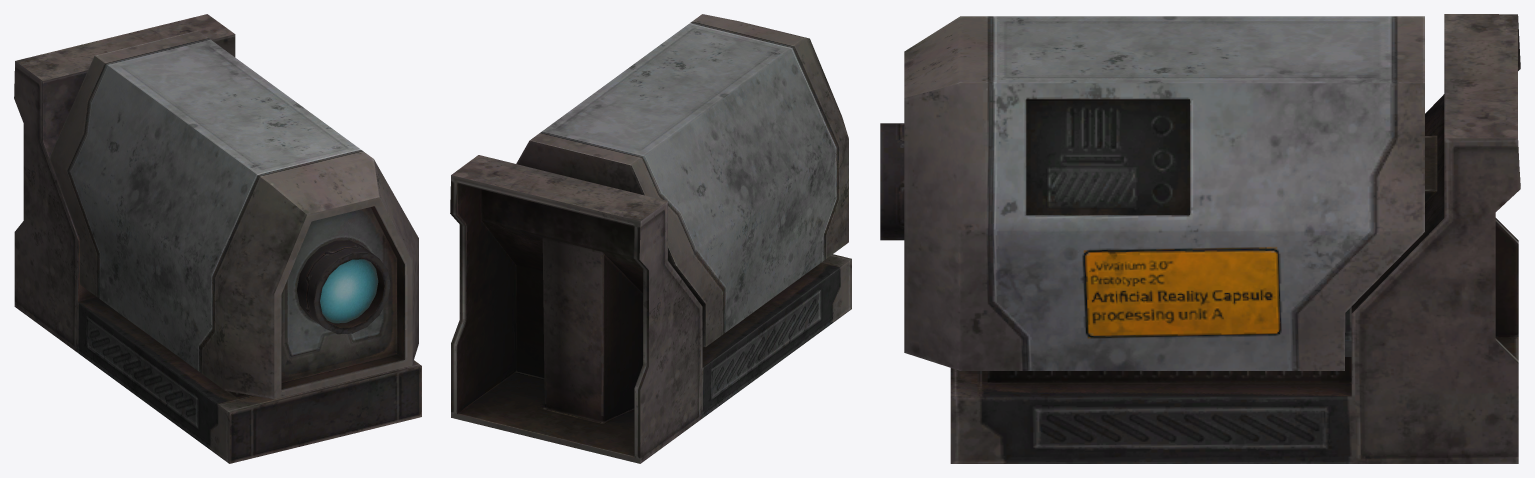
Rendered from chun_vivariumslice03.dae.
The picture shows the model from 3 angles, left to right: view 1: azimuth 30°, elevation 25°; view 2: azimuth 150°, elevation 25°; view 3: azimuth 270°, elevation 25°; orthographic projection. The views are drawn at different scales.
Visible parts, largest first — view 1: polymsh1; view 2: polymsh1; view 3: polymsh1.
Boxes of the visible parts, x1=… form: polymsh1: x1=14, y1=14, x2=421, y2=463; polymsh1: x1=450, y1=14, x2=851, y2=463; polymsh1: x1=880, y1=14, x2=1520, y2=463.
Size of the model in its own units: 21.26 by 27.88 by 45.94.
